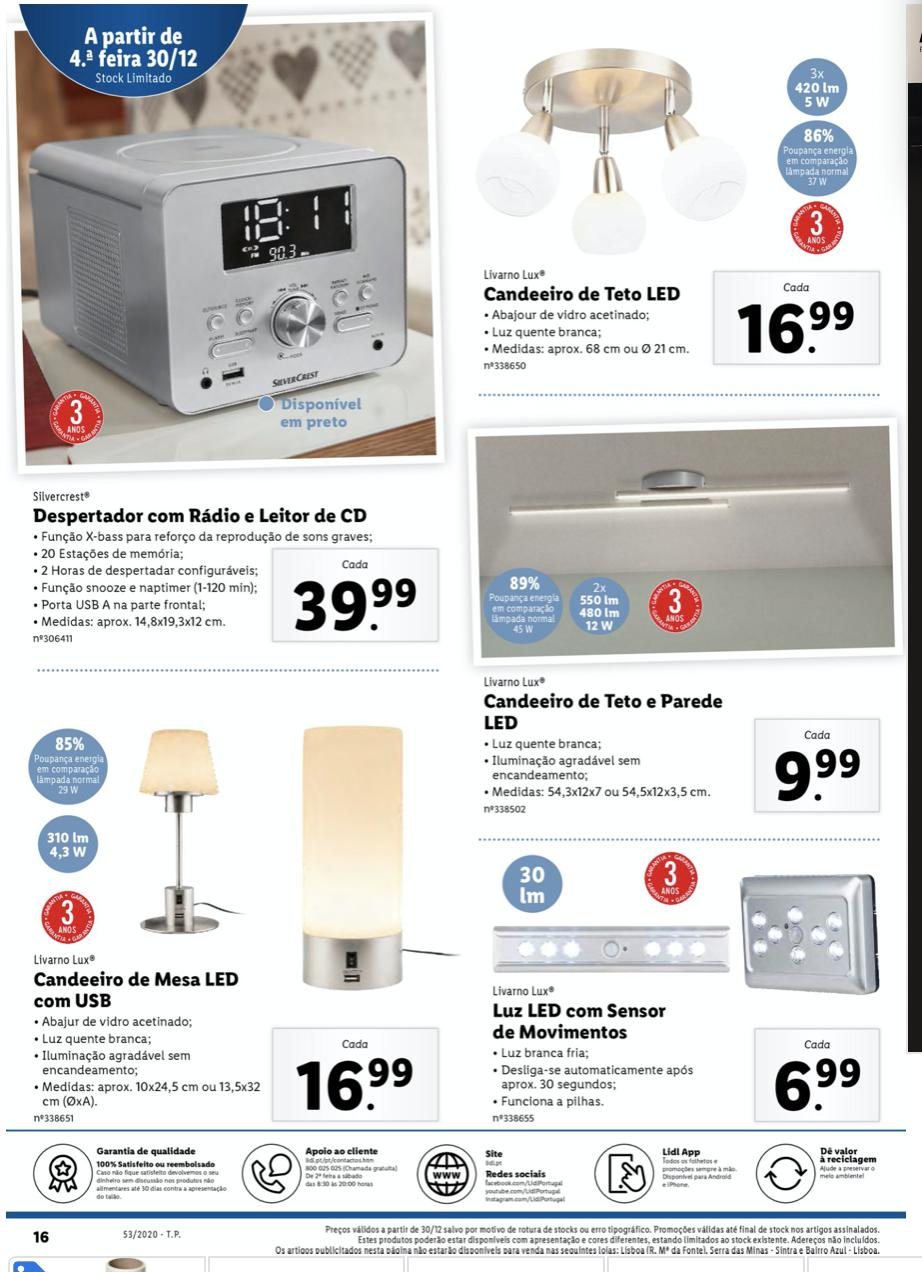name: (475, 686, 730, 735), (27, 967, 245, 1016), (21, 502, 373, 532), (483, 1000, 670, 1045), (476, 281, 684, 308)
price: (292, 1051, 416, 1124), (287, 576, 421, 643), (730, 300, 859, 367), (772, 741, 865, 813), (770, 1060, 868, 1121)
product: (10, 18, 448, 659), (460, 408, 906, 838), (19, 705, 448, 1119), (462, 10, 889, 387), (464, 852, 897, 1127)
